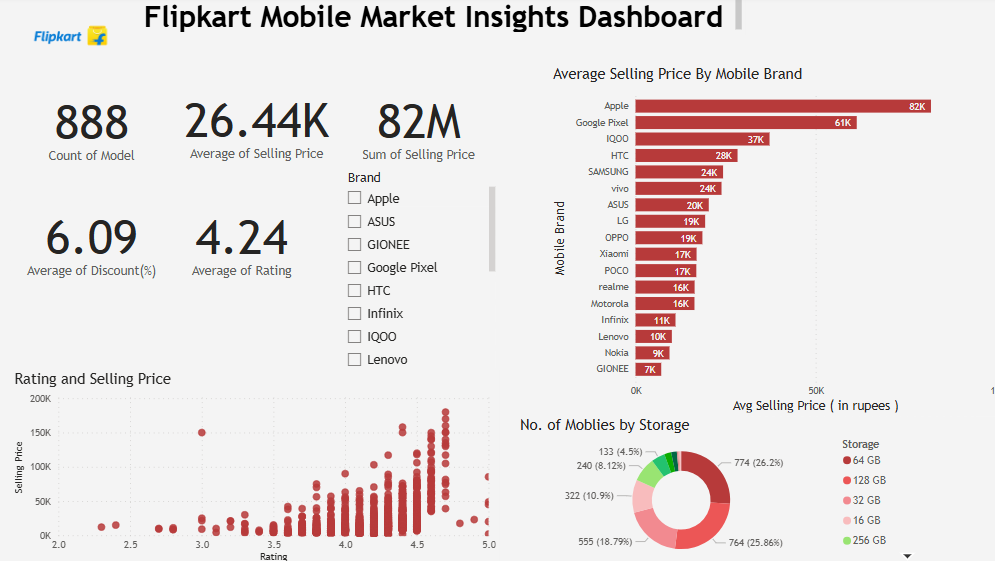

The dashboard page shown, as its layout file describes it:
{"tool":"powerbi","page":{"name":"Page 1","canvas":[1280,720],"ordinal":0},"visuals":[{"type":"card","title":"Total No.of Models ","fields":{"Values":["Count(Flipkart_Mobiles.Model)"]},"box":[24.5,69.9,203.9,188.8],"z":0},{"type":"card","fields":{"Values":["Avg(Flipkart_Mobiles.Discount(%))"]},"box":[24.5,215.2,203.9,188.8],"z":1000},{"type":"card","fields":{"Values":["Avg(Flipkart_Mobiles.Rating)"]},"box":[213.3,215.2,203.9,188.8],"z":2000},{"type":"card","fields":{"Values":["Avg(Flipkart_Mobiles.Selling Price)"]},"box":[232.2,68,203.9,188.8],"z":3000},{"type":"card","fields":{"Values":["Sum(Flipkart_Mobiles.Selling Price)"]},"box":[436.1,68,203.9,190.7],"z":4000},{"type":"barChart","title":"Average Selling Price By Mobile Brand","fields":{"Category":["Flipkart_Mobiles.Brand"],"Y":["Avg(Flipkart_Mobiles.Selling Price)"]},"box":[702.3,88.7,577.7,441.8],"z":5000},{"type":"slicer","fields":{"Values":["Flipkart_Mobiles.Brand"]},"box":[436.1,215.2,203.9,260.5],"z":6000},{"type":"image","box":[24.5,0,151,101.9],"z":7000},{"type":"textbox","box":[186.9,0,762.7,51],"z":8000},{"type":"donutChart","fields":{"Category":["Flipkart_Mobiles.Storage"],"Y":["CountNonNull(Flipkart_Mobiles.Storage)"]},"box":[660.8,530.5,577.7,188.8],"z":9000},{"type":"scatterChart","fields":{"X":["Flipkart_Mobiles.Rating"],"Y":["Flipkart_Mobiles.Selling Price"]},"box":[24.5,472,615.5,247.3],"z":10000},{"type":"card","fields":{"Values":["CountNonNull(Flipkart_Mobiles.Brand)"]},"box":[228.4,360.6,198.2,115.2],"z":11000}]}

Visuals, with their boxes in screenshot pixels (x1, y1, x2, y2), scaled from the page's 1280x720 canvas onto the 995x561 screenshot:
"Total No.of Models " card: locate(19, 54, 178, 202)
card - Avg(Flipkart_Mobiles.Discount(%)): locate(19, 168, 178, 315)
card - Avg(Flipkart_Mobiles.Rating): locate(166, 168, 324, 315)
card - Avg(Flipkart_Mobiles.Selling Price): locate(180, 53, 339, 200)
card - Sum(Flipkart_Mobiles.Selling Price): locate(339, 53, 498, 202)
"Average Selling Price By Mobile Brand" barChart: locate(546, 69, 994, 413)
slicer - Flipkart_Mobiles.Brand: locate(339, 168, 498, 371)
image: locate(19, 0, 136, 79)
textbox: locate(145, 0, 738, 40)
donutChart - Flipkart_Mobiles.Storage x CountNonNull(Flipkart_Mobiles.Storage): locate(514, 413, 963, 560)
scatterChart - Flipkart_Mobiles.Rating x Flipkart_Mobiles.Selling Price: locate(19, 368, 498, 560)
card - CountNonNull(Flipkart_Mobiles.Brand): locate(178, 281, 332, 371)
